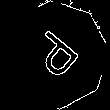P_SE: (24, 25, 86, 85)
